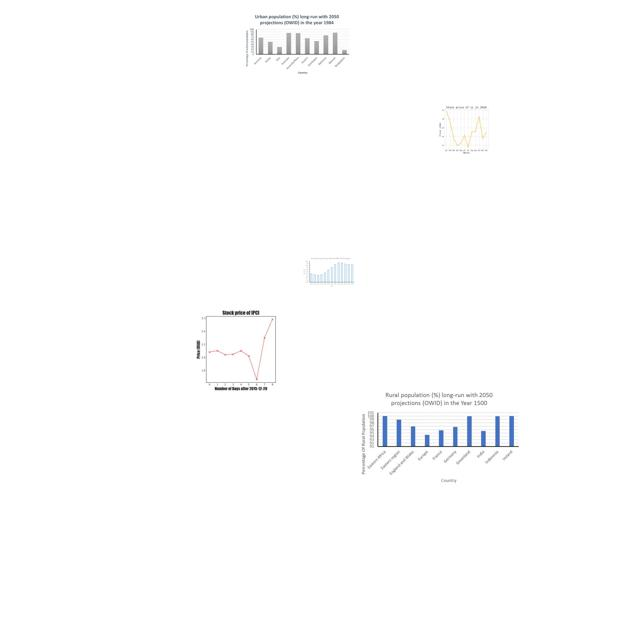Graph: (356, 389, 523, 486), (182, 306, 297, 392), (243, 13, 350, 76), (431, 103, 500, 155), (302, 257, 355, 288)
